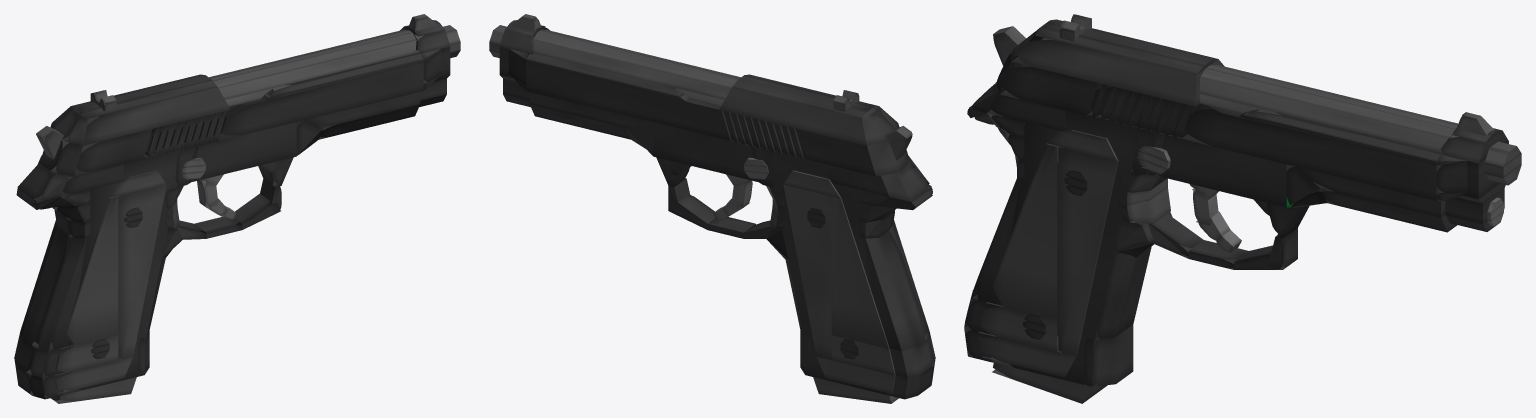
Rendered from barettam9.obj.
3 views of the same model, side by side, from view 1: azimuth 30°, elevation 25°; view 2: azimuth 150°, elevation 25°; view 3: azimuth 330°, elevation 25° (orthographic). The views are drawn at different scales.
Visible parts, largest first — view 1: slideModel0, gunModel53, gunModel52, defaultGripModel0, gunModel10, slideModel5, gunModel28, gunModel62, gunModel60, slideModel1, slideModel8, gunModel51 (+29 smaller); view 2: slideModel0, gunModel53, gunModel52, defaultGripModel0, gunModel10, slideModel5, gunModel28, gunModel62, gunModel60, slideModel8, slideModel1, gunModel51 (+25 smaller); view 3: slideModel0, gunModel53, defaultGripModel0, gunModel52, slideModel5, gunModel28, gunModel62, gunModel60, slideModel8, slideModel1, gunModel15, gunModel30 (+32 smaller).
Part boxes in pixels (x1,y1,x2,y2): slideModel0: (218, 63, 423, 140); gunModel53: (118, 184, 166, 359); gunModel52: (51, 195, 118, 348); defaultGripModel0: (63, 149, 181, 394); gunModel10: (20, 220, 83, 351); slideModel5: (76, 87, 230, 145); gunModel28: (191, 122, 296, 181); gunModel62: (209, 30, 423, 88); gunModel60: (218, 39, 419, 99); slideModel1: (74, 116, 152, 176); slideModel8: (71, 74, 217, 118); gunModel51: (42, 357, 132, 393); slideModel0: (526, 63, 731, 140); gunModel53: (783, 184, 831, 360); gunModel52: (831, 196, 889, 348); defaultGripModel0: (767, 150, 886, 394); gunModel10: (866, 220, 929, 351); slideModel5: (719, 87, 881, 145); gunModel28: (653, 122, 758, 181); gunModel62: (533, 30, 740, 88); gunModel60: (533, 40, 731, 99); slideModel8: (732, 74, 878, 118); slideModel1: (797, 129, 875, 176); gunModel51: (817, 357, 895, 393); slideModel0: (1181, 106, 1440, 200); gunModel53: (1057, 150, 1118, 356); defaultGripModel0: (991, 110, 1140, 384); gunModel52: (986, 144, 1058, 319); slideModel5: (1011, 26, 1224, 106); gunModel28: (1155, 135, 1294, 207); gunModel62: (1200, 65, 1458, 138); gunModel60: (1199, 77, 1449, 152); slideModel8: (1035, 19, 1217, 74); slideModel1: (1000, 38, 1102, 115); gunModel15: (1095, 242, 1151, 339); gunModel30: (1295, 166, 1445, 217).
Size of the model in its own units: 7.15 by 4.69 by 0.9.
